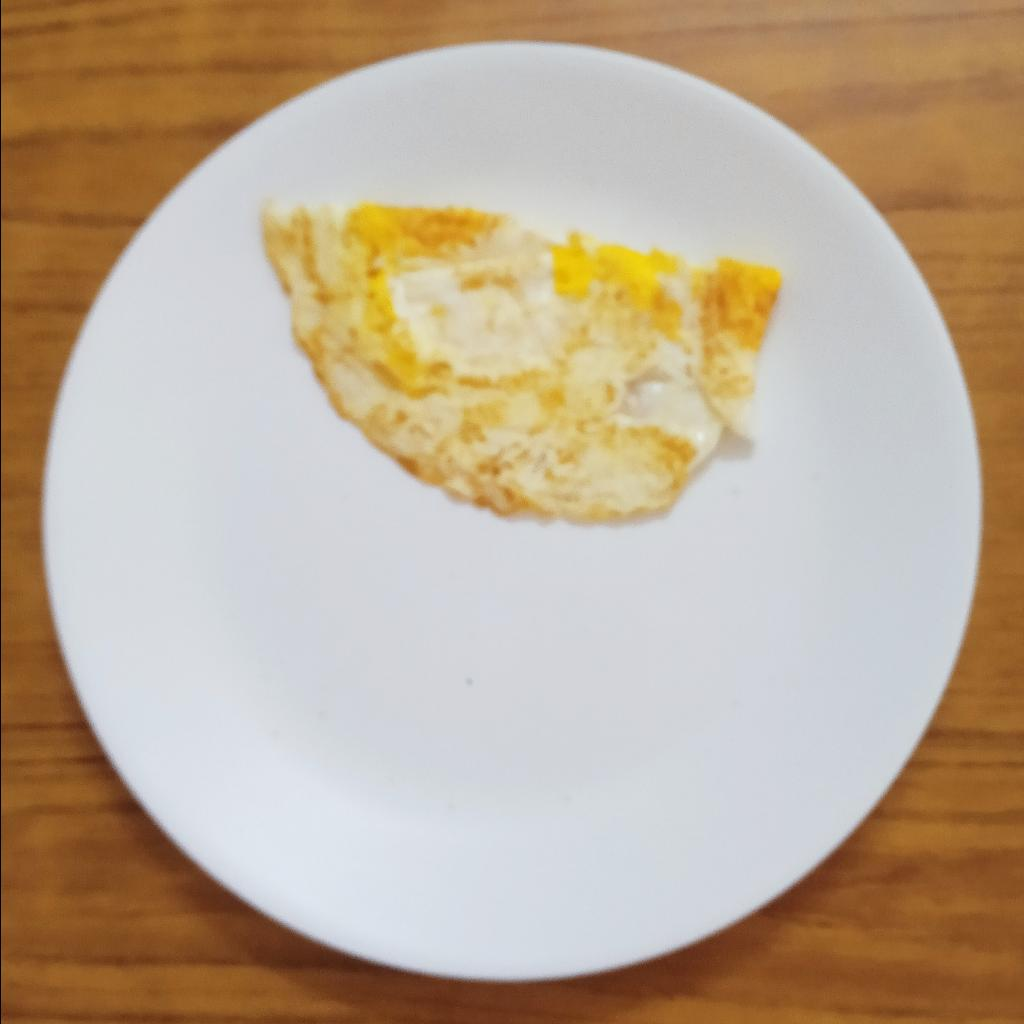egg-poached: (256, 201, 782, 529)
